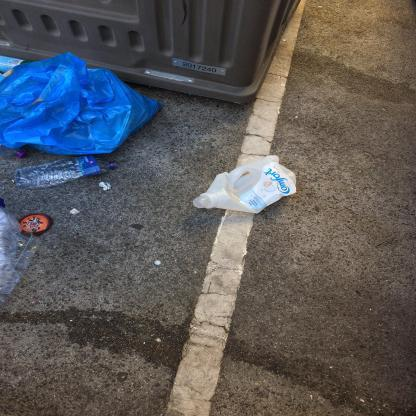metal: (2, 56, 32, 75), (100, 182, 113, 192), (155, 261, 162, 267)
plastik: (1, 53, 164, 157), (194, 155, 298, 215), (15, 156, 119, 190), (1, 207, 41, 294), (19, 214, 53, 237)
